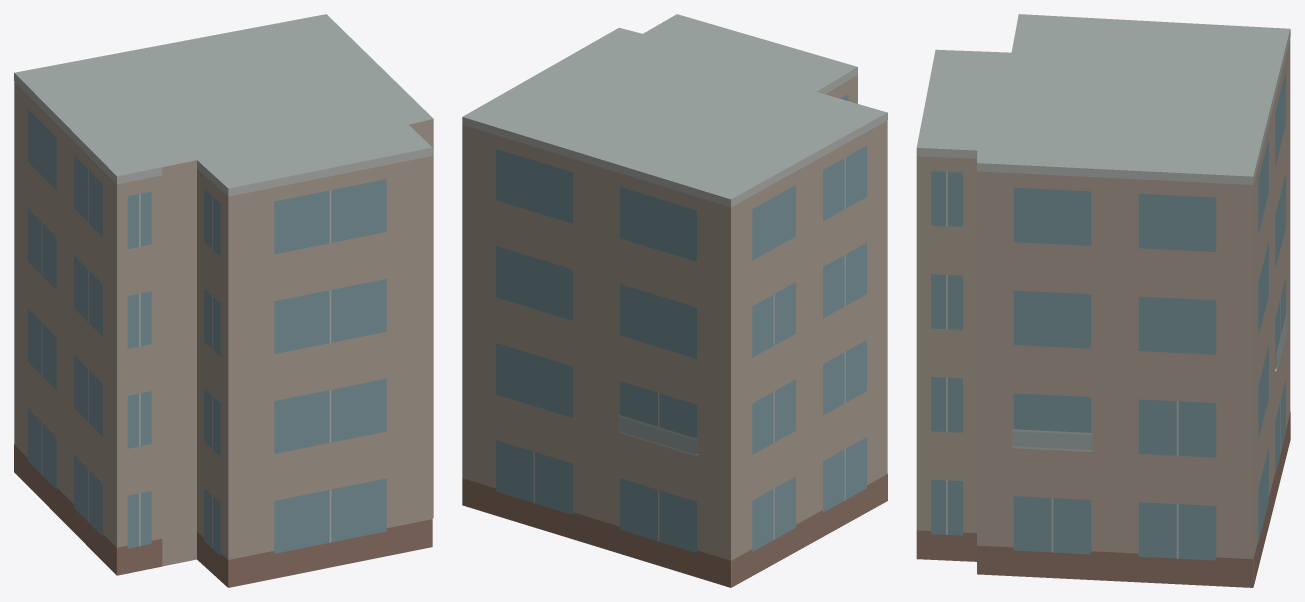
File: survey-upis-32965182.glb
The picture shows the model from 3 angles, left to right: view 1: azimuth 30°, elevation 25°; view 2: azimuth 150°, elevation 25°; view 3: azimuth 270°, elevation 25°; orthographic projection. The views are drawn at different scales.
Visible parts, largest first — view 1: survey-upis-32965182.tmp; view 2: survey-upis-32965182.tmp; view 3: survey-upis-32965182.tmp.
Part boxes in pixels (x1,y1,x2,y2): survey-upis-32965182.tmp: (14, 14, 433, 587); survey-upis-32965182.tmp: (462, 14, 887, 587); survey-upis-32965182.tmp: (916, 14, 1290, 587).
Size of the model in its own units: 10.19 by 12 by 9.9.
